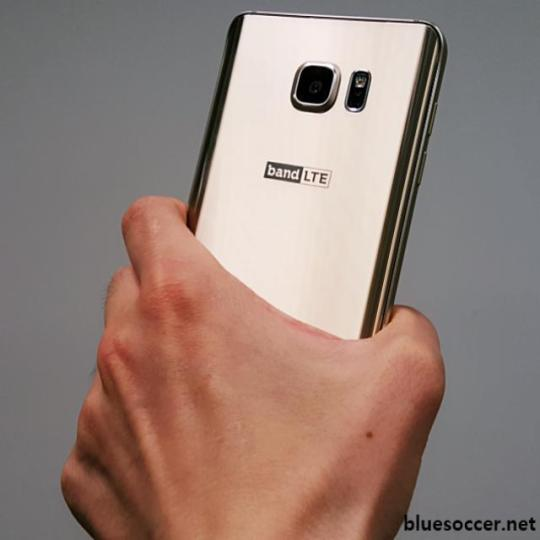phone: (200, 8, 454, 412)
